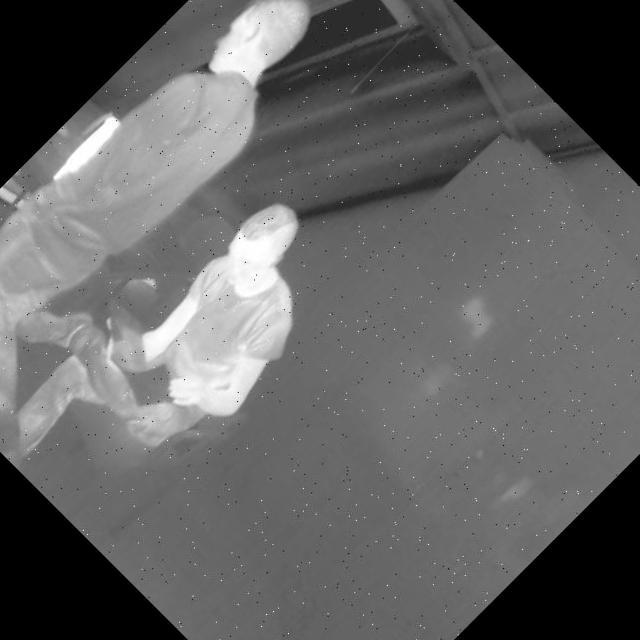person: (0, 127, 371, 552), (0, 0, 357, 425)
